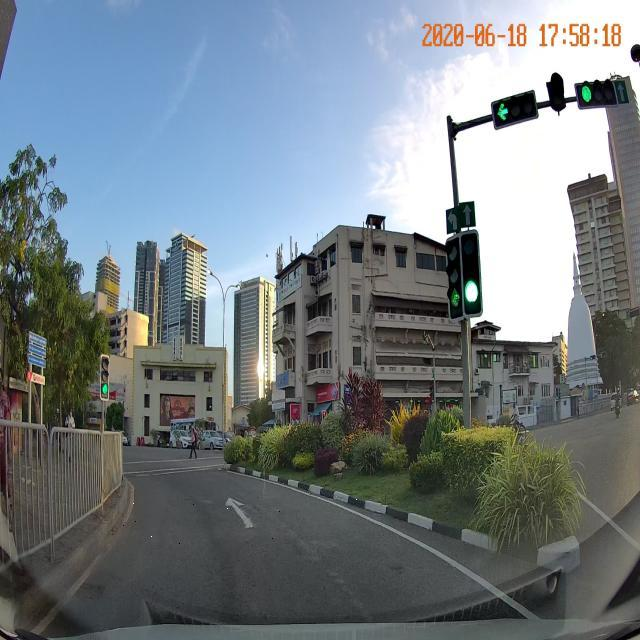forward: (103, 489, 379, 545)
